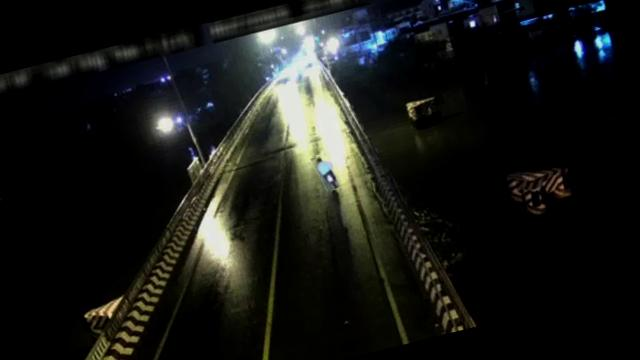Bike: (313, 151, 340, 193)
